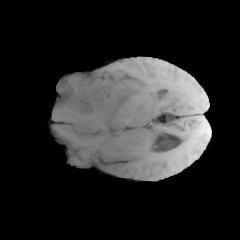glioma: (54, 70, 143, 133)
